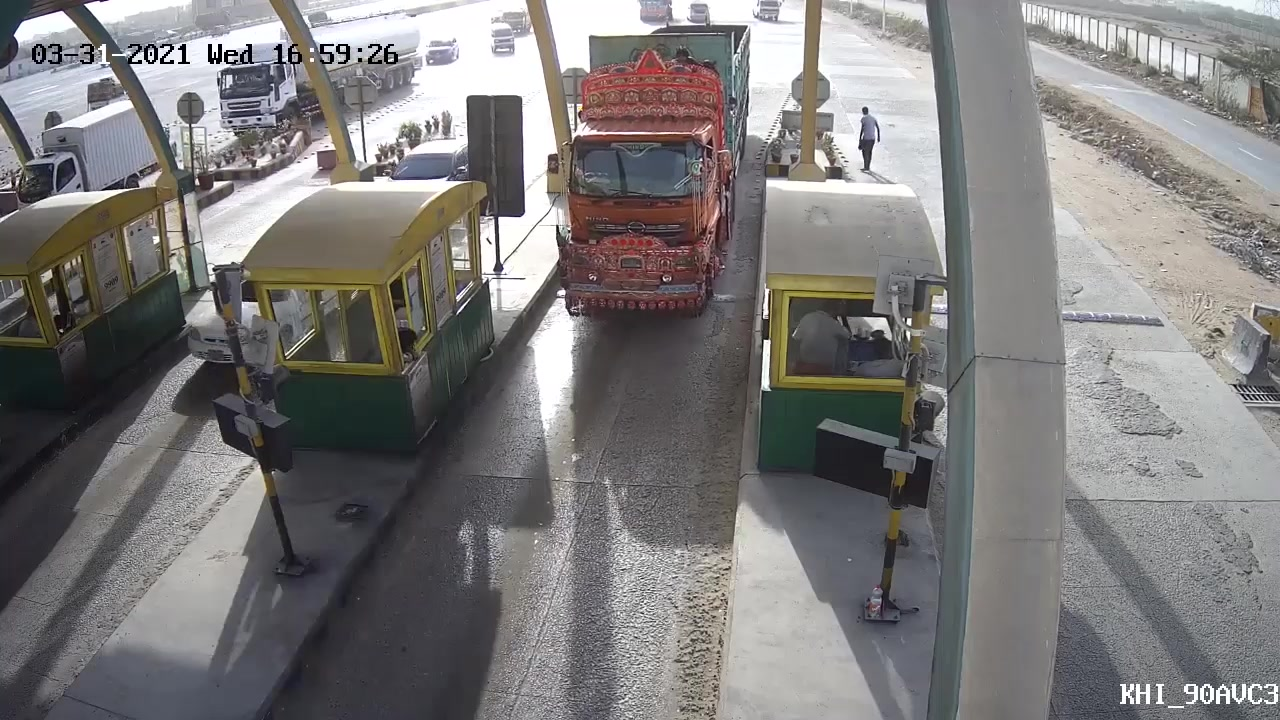F5: (547, 26, 751, 333)
